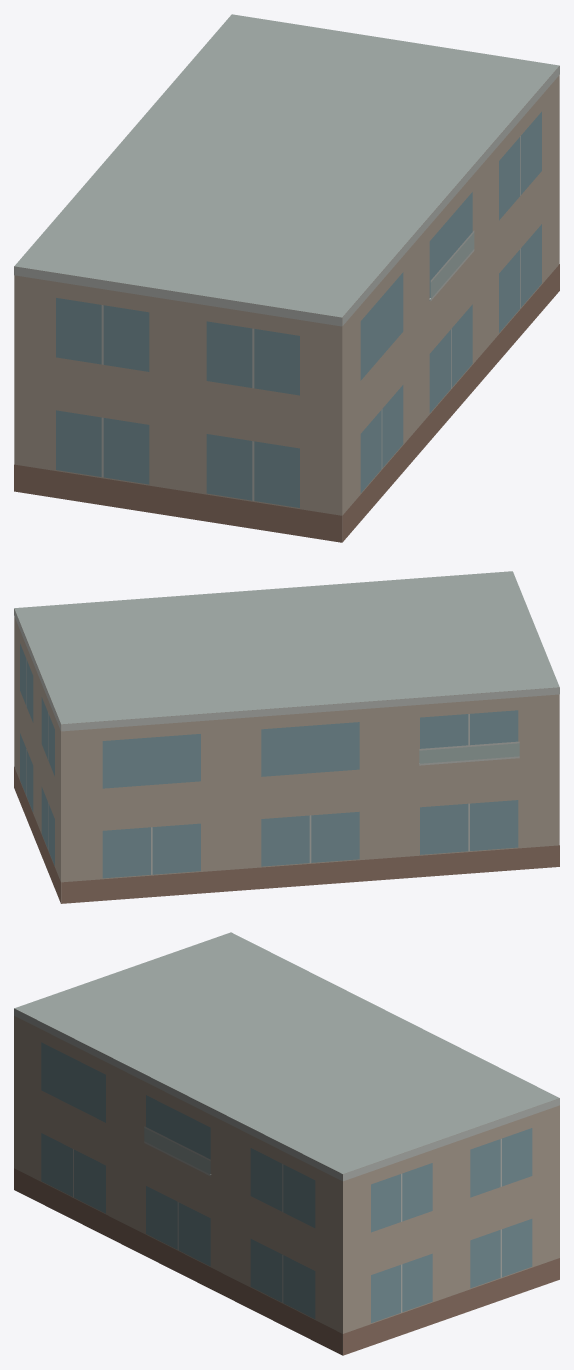
The model's file is survey-upis-32774237.glb.
3 views of the same model, one above another, from view 1: azimuth 30°, elevation 25°; view 2: azimuth 150°, elevation 25°; view 3: azimuth 270°, elevation 25° (orthographic). The views are drawn at different scales.
Parts seen in each view (by area): view 1: survey-upis-32774237.tmp; view 2: survey-upis-32774237.tmp; view 3: survey-upis-32774237.tmp.
Boxes of the visible parts, x1,y1,x2,y2 form: survey-upis-32774237.tmp: (14,14,559,542); survey-upis-32774237.tmp: (14,571,559,903); survey-upis-32774237.tmp: (14,932,559,1355).
Bounding box in the file's own units: 17.45 × 6.1 × 16.63.
